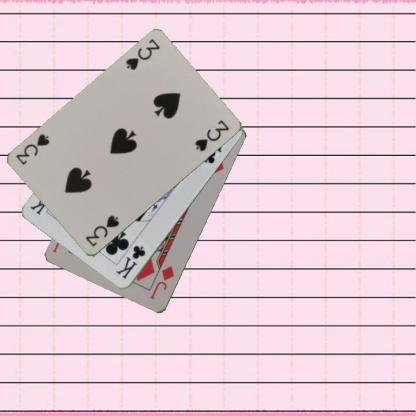3s: (82, 212, 120, 248), (123, 36, 161, 72)
Jd: (147, 263, 176, 301)
Kc: (113, 243, 148, 281)
